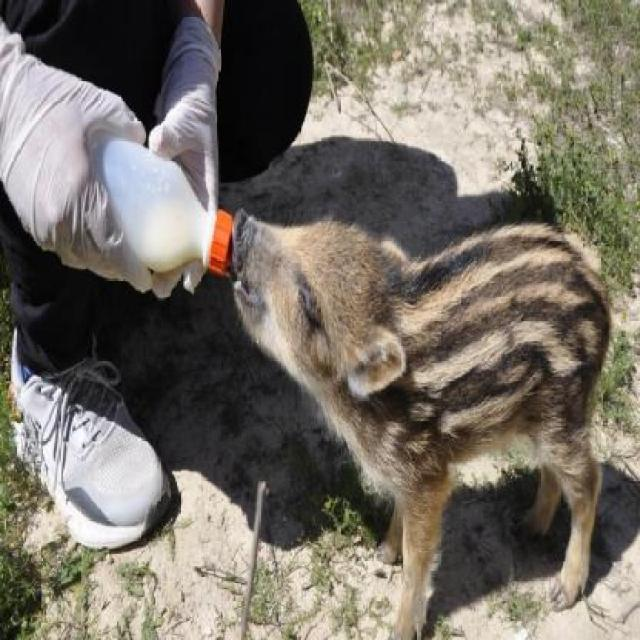wildboar: (226, 171, 617, 640)
